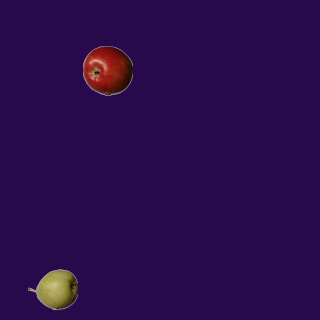Apple Braeburn: (82, 45, 132, 95)
Pear: (27, 264, 77, 314)
